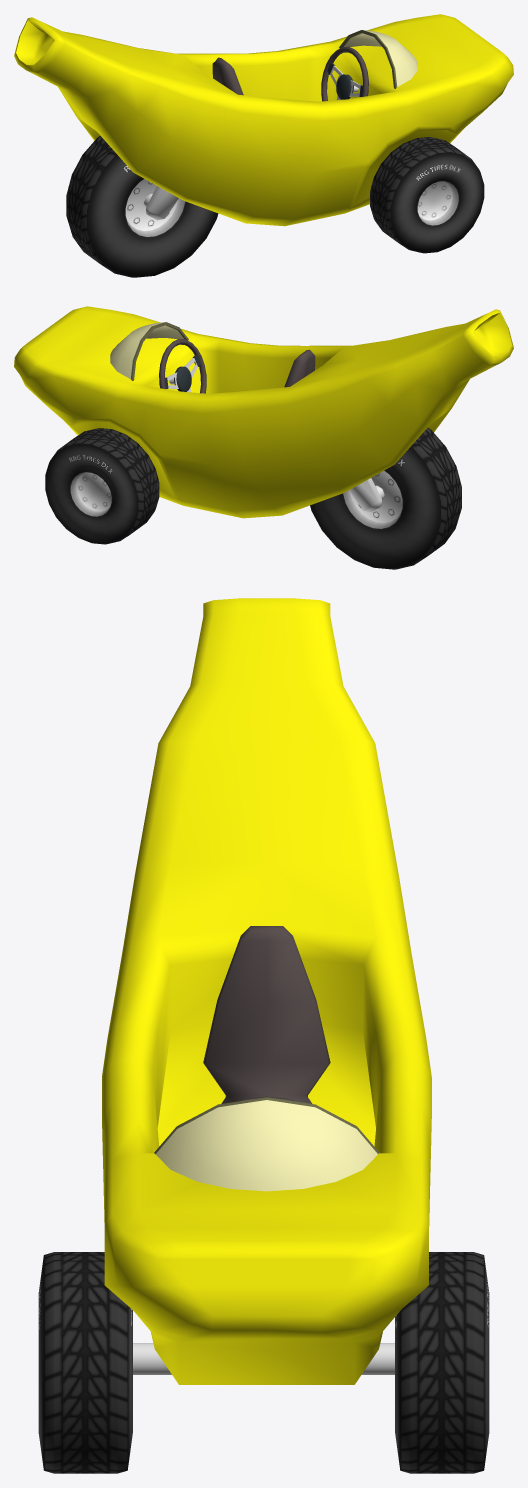
File: cartoon banana car.glb
The picture shows the model from 3 angles, top to bottom: view 1: azimuth 30°, elevation 25°; view 2: azimuth 150°, elevation 25°; view 3: azimuth 270°, elevation 25°; orthographic projection. The views are drawn at different scales.
Visible parts, largest first — view 1: body, tire, tire_2, windshield, Torus, wheel_support, chair, windshield_1, Cylinder_2; view 2: body, tire, tire_3, windshield, Torus, wheel_support, chair, windshield_1, Cylinder_2; view 3: body, tire_2, tire_3, chair, windshield, axel_2.
Boxes of the visible parts, <box> form: body: <box>14,14,513,226</box>; tire: <box>66,135,218,277</box>; tire_2: <box>370,137,484,253</box>; windshield: <box>344,30,417,86</box>; Torus: <box>321,46,368,101</box>; wheel_support: <box>146,186,178,220</box>; chair: <box>212,57,243,95</box>; windshield_1: <box>339,30,397,88</box>; Cylinder_2: <box>336,74,353,99</box>; body: <box>14,306,513,518</box>; tire: <box>310,427,461,569</box>; tire_3: <box>45,428,159,544</box>; windshield: <box>110,322,183,378</box>; Torus: <box>159,339,206,393</box>; wheel_support: <box>349,478,381,512</box>; chair: <box>284,349,315,387</box>; windshield_1: <box>131,322,188,380</box>; Cylinder_2: <box>174,366,191,391</box>; body: <box>102,598,431,1384</box>; tire_2: <box>38,1252,132,1473</box>; tire_3: <box>395,1252,489,1473</box>; chair: <box>203,926,330,1103</box>; windshield: <box>155,1100,377,1191</box>; axel_2: <box>133,1343,394,1374</box>.
Bounding box in the file's own units: 4.84 × 2.63 × 2.
8 materials, 1 textured.
